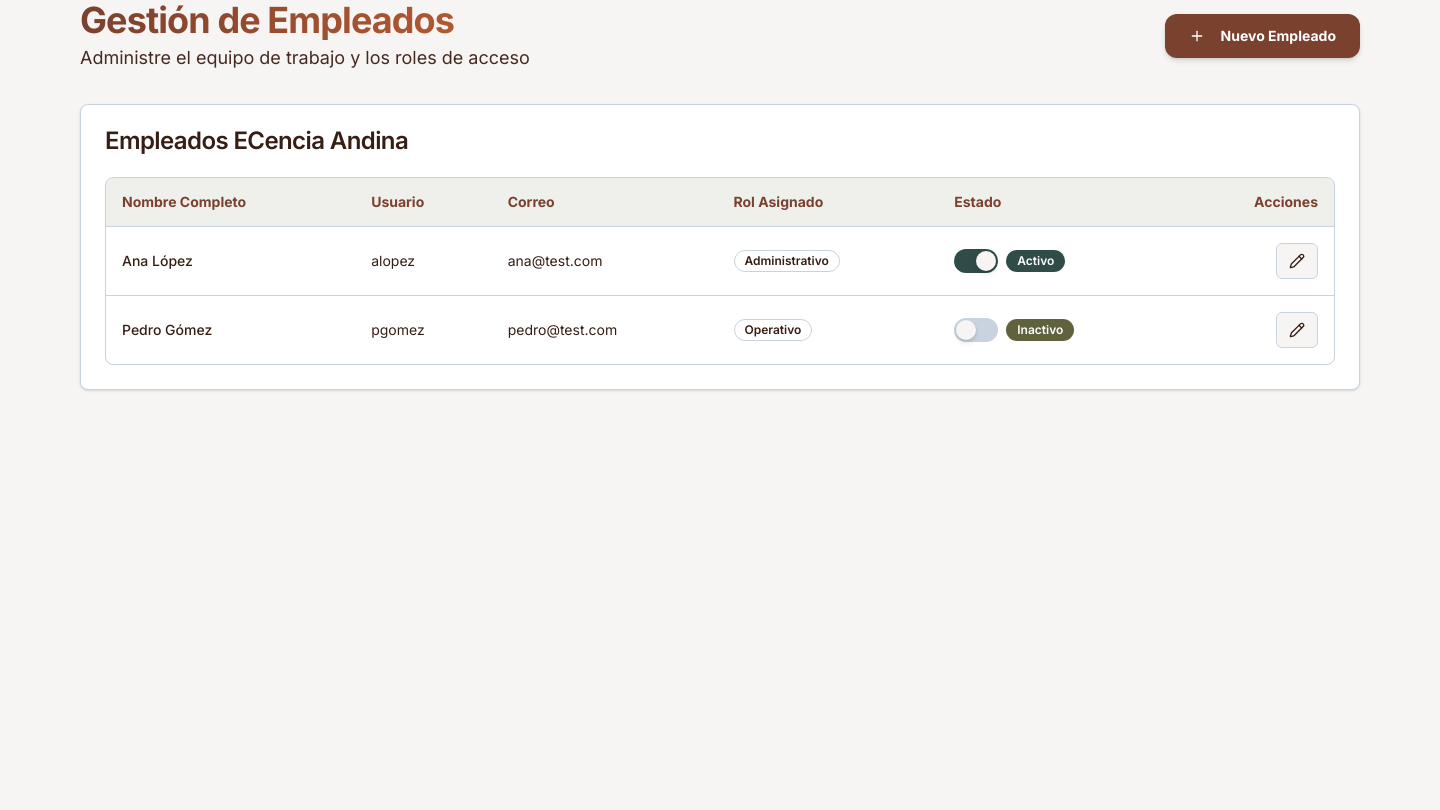
Test: Usuarios › permite editar un empleado
Expected: the text "Ana López" is shown, [106,226,355,295]
Click the button titled "Editar empleado" in the row of "López": click(1297, 260) [1276,242,1318,278]
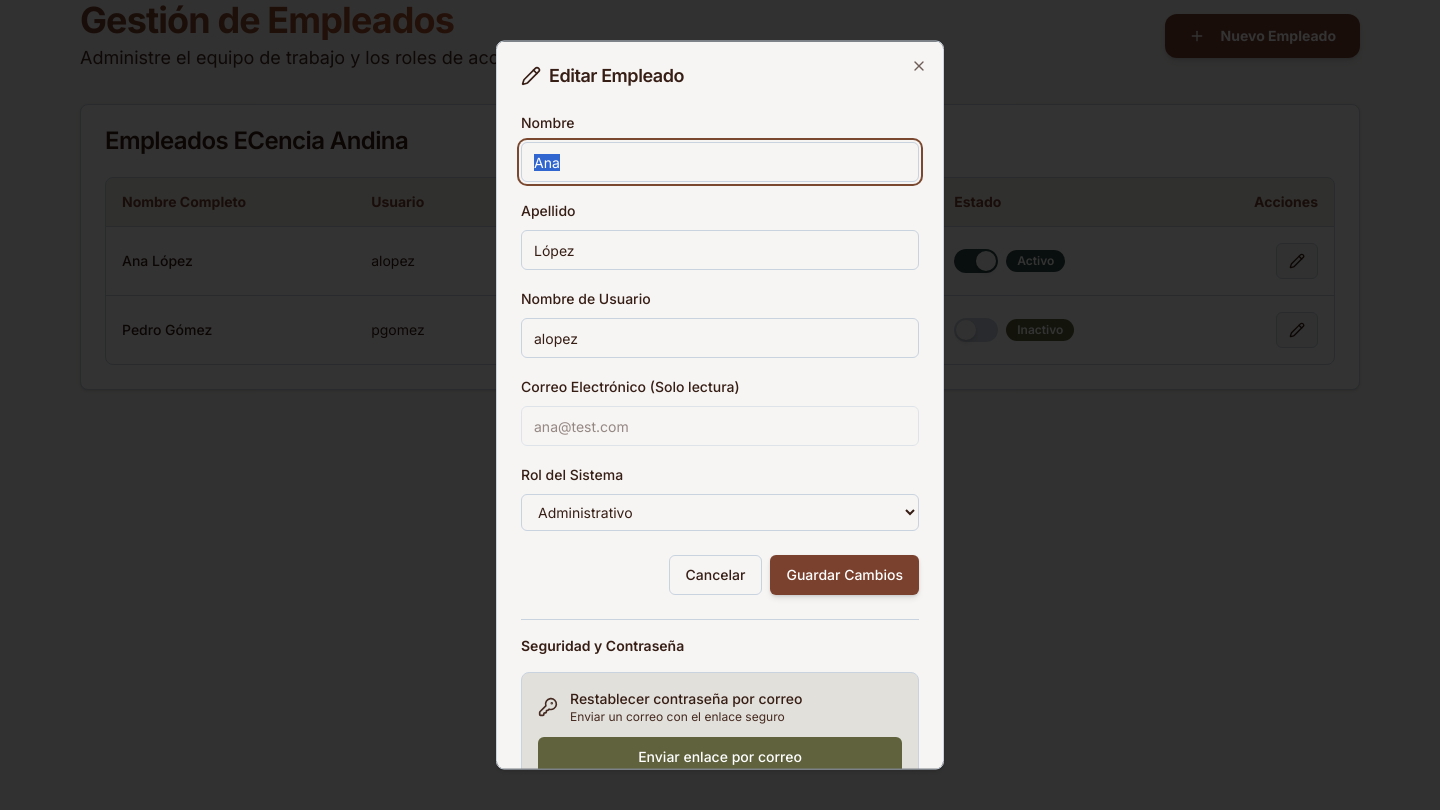
Expected: the heading "Editar Empleado" is shown, [521,64,684,86]
Replace the text in the field labelled "Nombre" with "Anita": (720, 162) [521,142,919,182]
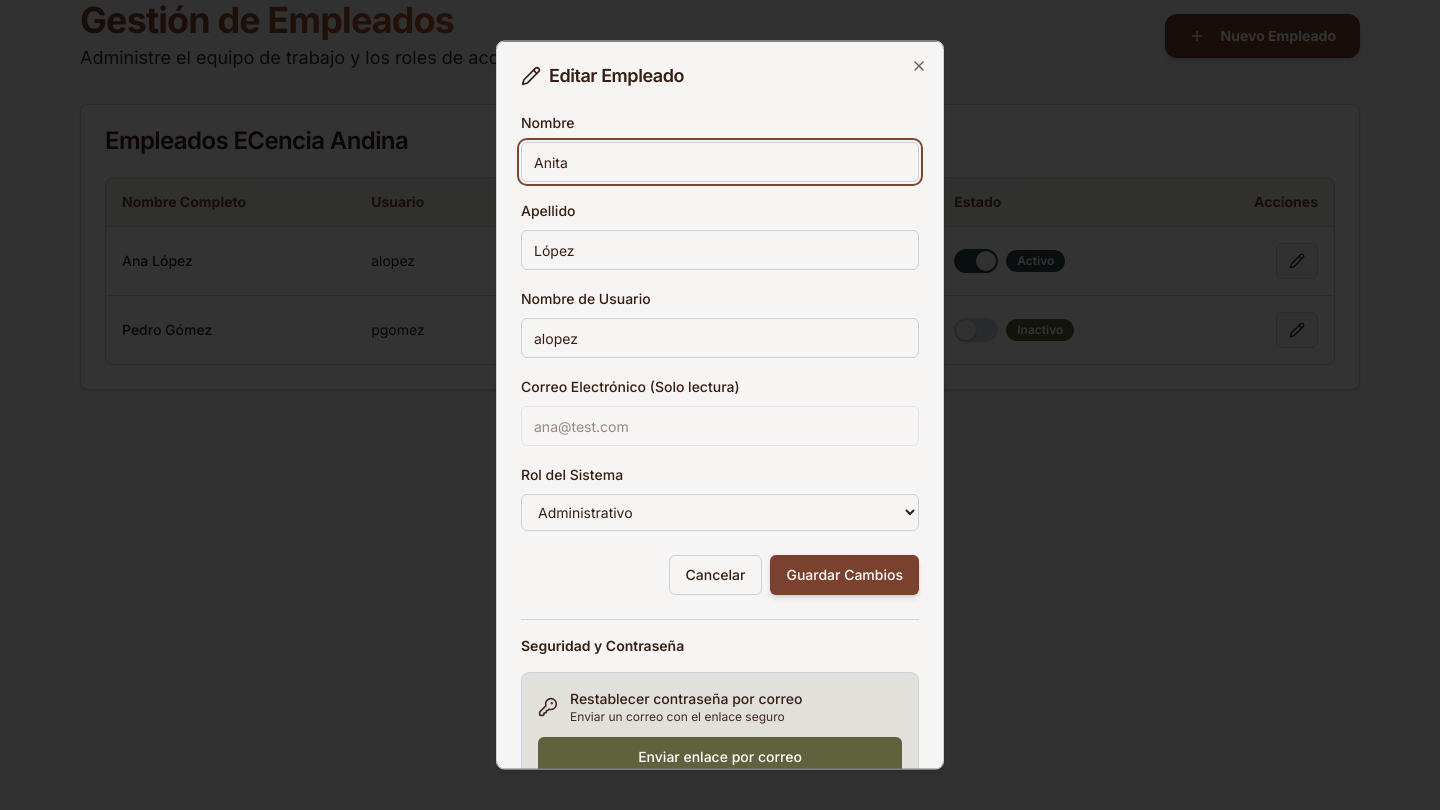
Click the button "Guardar Cambios": click(845, 574) [770,554,919,594]
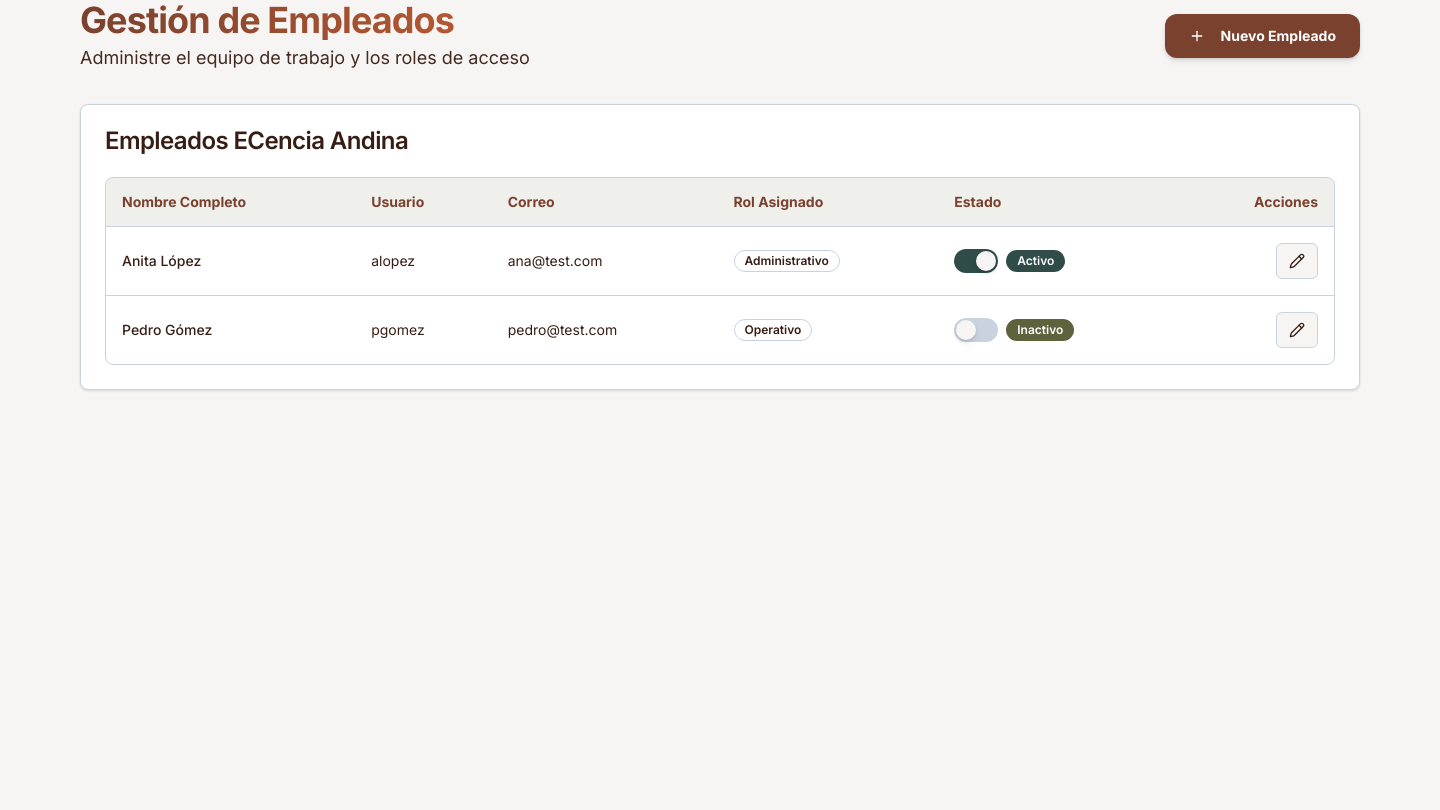
Expected: the text "Anita López" is shown, [106,226,355,295]
